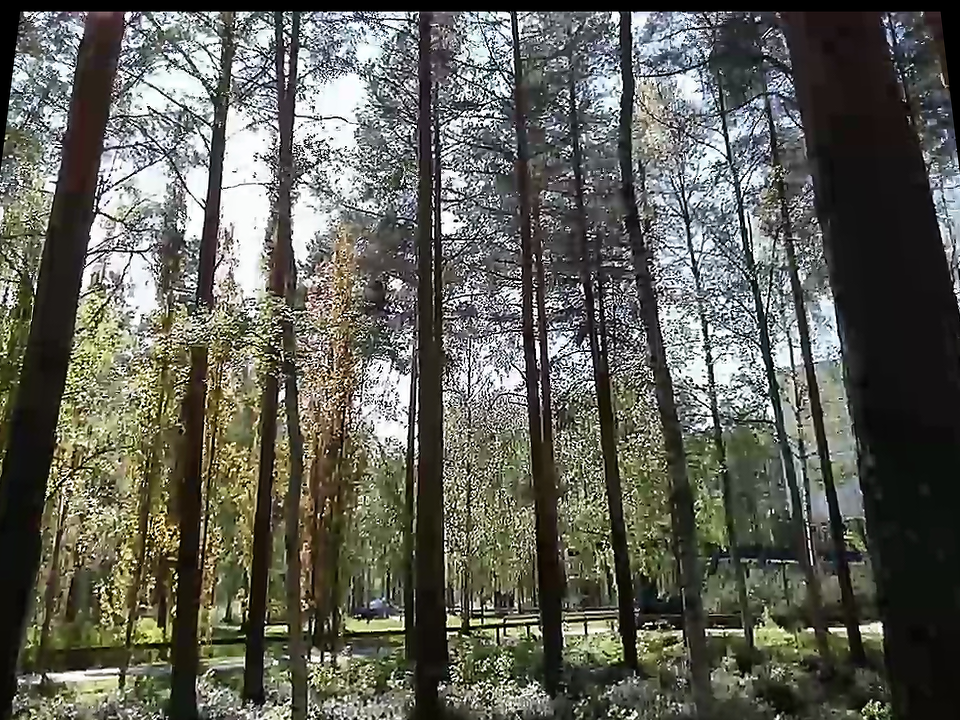branch: (141, 73, 193, 113), (337, 195, 403, 223), (297, 106, 358, 130), (85, 239, 146, 260), (180, 171, 206, 213), (217, 174, 270, 193), (98, 202, 130, 228), (723, 412, 770, 426), (661, 239, 690, 253)
trunk: (798, 185, 958, 712), (412, 81, 456, 703), (496, 125, 556, 419), (607, 162, 676, 392), (167, 381, 214, 707), (659, 467, 725, 690), (590, 429, 646, 671), (520, 444, 573, 686)
